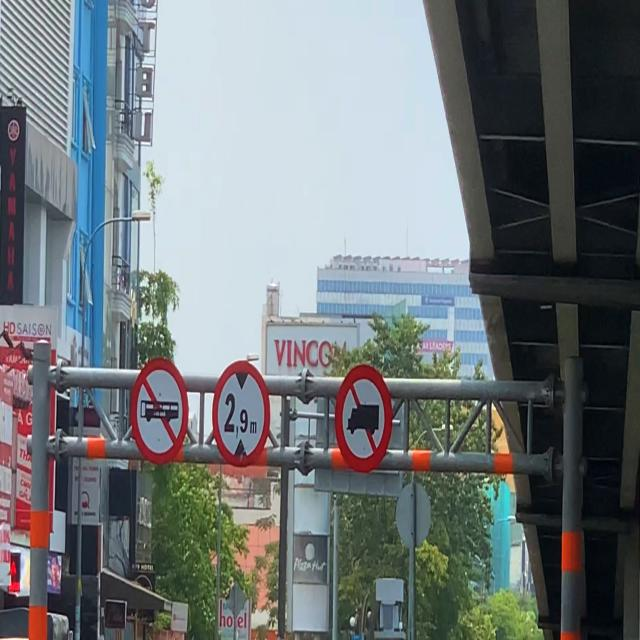Cam con lai: (334, 364, 393, 475), (130, 359, 188, 463)
Chieu cao toi da: (212, 361, 270, 468)
